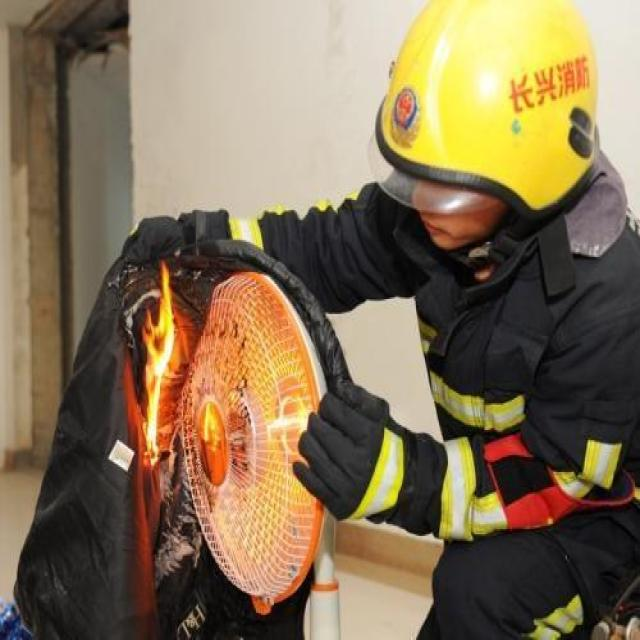fire: (98, 220, 350, 533)
other: (378, 2, 614, 227)
